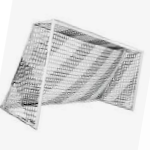goals: (1, 18, 145, 131)
